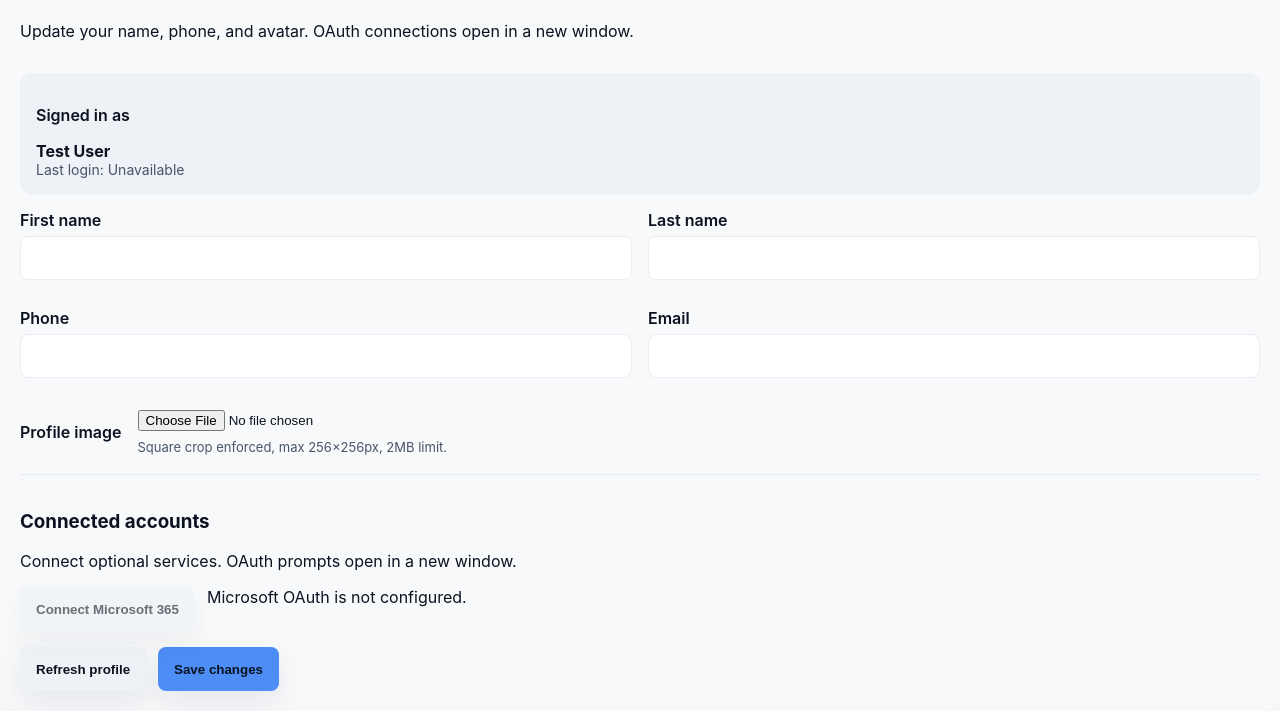
Test: SettingsPage › updates profile fields
The image size is (1280, 711).
(page scrolled)
Click the button "Refresh profile" at [83, 669], box top-left (20, 647), bottom-right (146, 691)
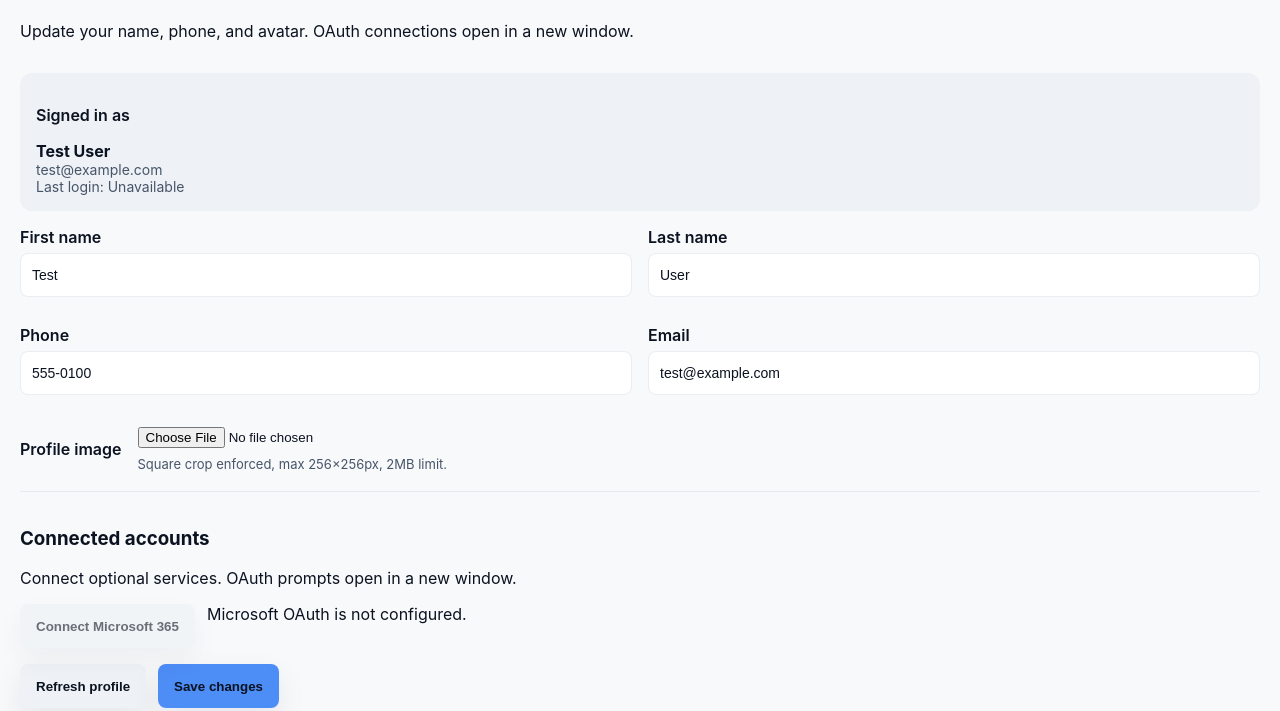
Expected: the button "Refresh profile" is enabled, top-left (20, 664), bottom-right (146, 708)
Replace the text in the field labelled "First name" with "Taylor" at [326, 275], box top-left (20, 253), bottom-right (632, 297)
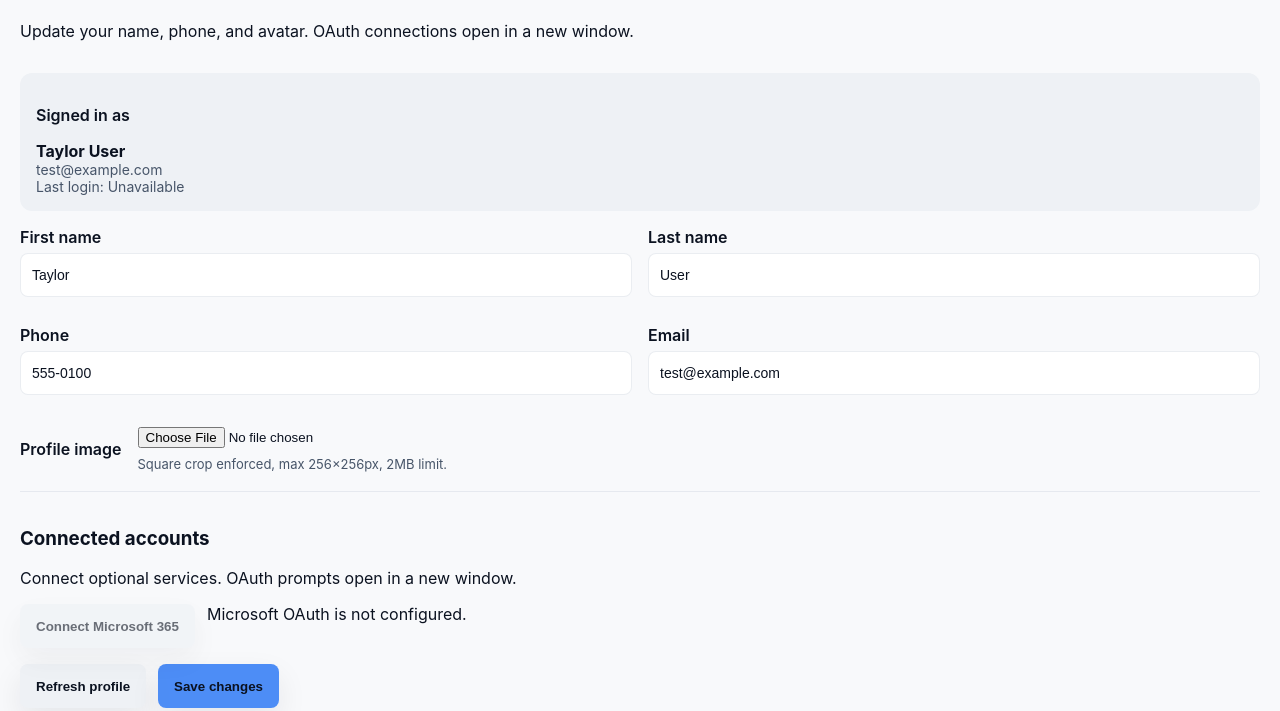
Click the button "Save changes" at [219, 686], box top-left (158, 664), bottom-right (279, 708)
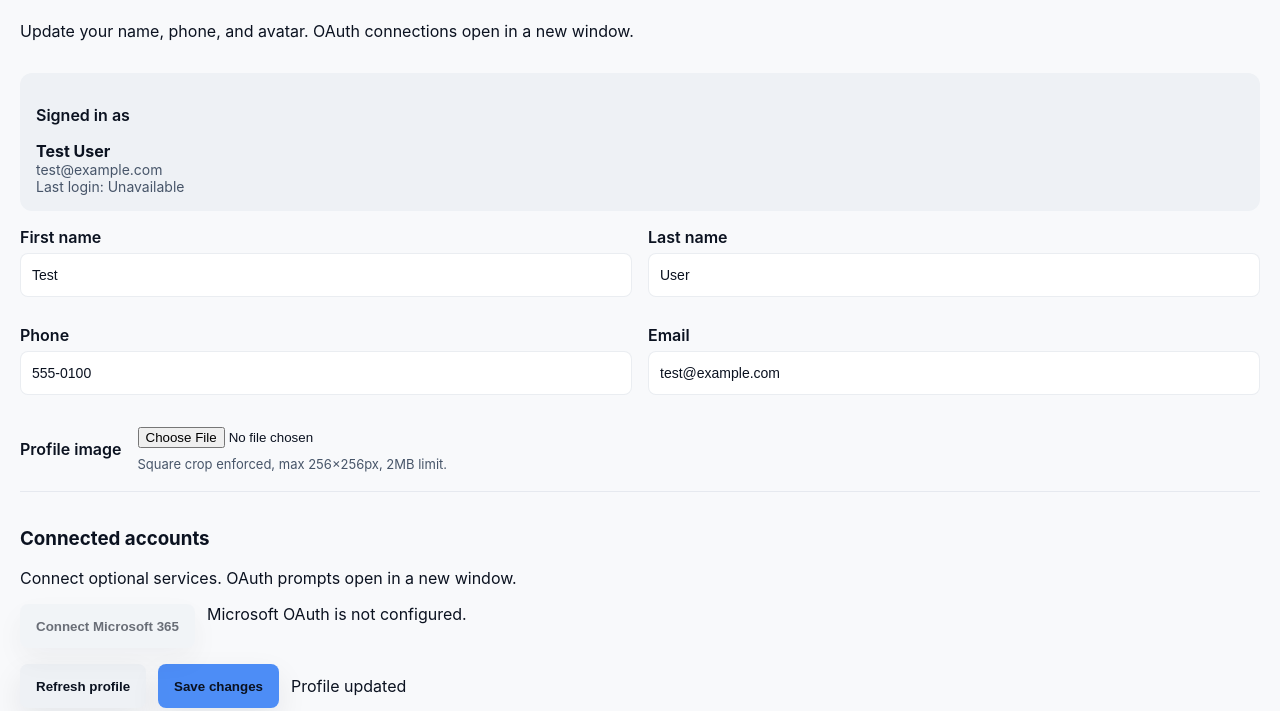
Result: the message reads "Profile updated" at top-left (291, 676), bottom-right (406, 696)
